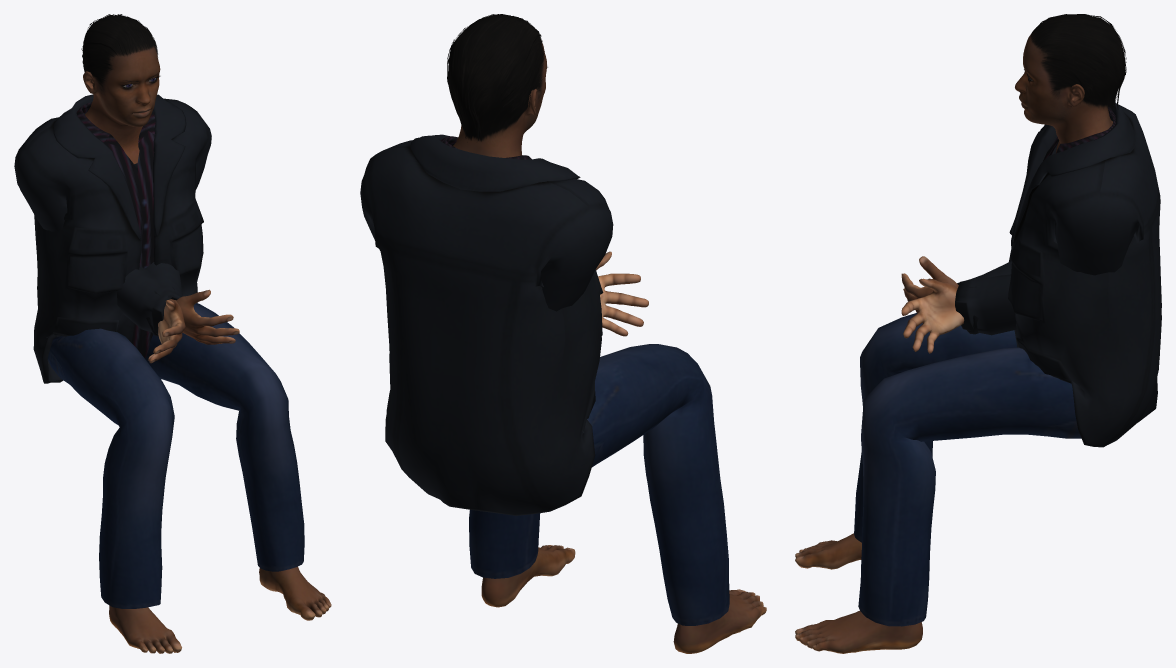
The model's file is congregant_m2.glb.
3 renders of one model, left to right at view 1: azimuth 30°, elevation 25°; view 2: azimuth 150°, elevation 25°; view 3: azimuth 270°, elevation 25°, orthographic. The views are drawn at different scales.
Parts seen in each view (by area): view 1: congregant_m2.male_casualsuit05, congregant_m2.body, congregant_m2.short04; view 2: congregant_m2.male_casualsuit05, congregant_m2.short04, congregant_m2.body; view 3: congregant_m2.male_casualsuit05, congregant_m2.body, congregant_m2.short04.
Boxes of the visible parts, <box> form: congregant_m2.male_casualsuit05: <box>14,94,304,608</box>; congregant_m2.body: <box>83,45,331,653</box>; congregant_m2.short04: <box>81,14,157,93</box>; congregant_m2.male_casualsuit05: <box>360,134,729,625</box>; congregant_m2.short04: <box>447,14,544,142</box>; congregant_m2.body: <box>453,42,766,653</box>; congregant_m2.male_casualsuit05: <box>854,102,1161,626</box>; congregant_m2.body: <box>795,33,1112,653</box>; congregant_m2.short04: <box>1030,14,1126,109</box>.
Bounding box in the file's own units: 0.5103 × 1.33 × 0.7536.
6 materials, 6 textured.
